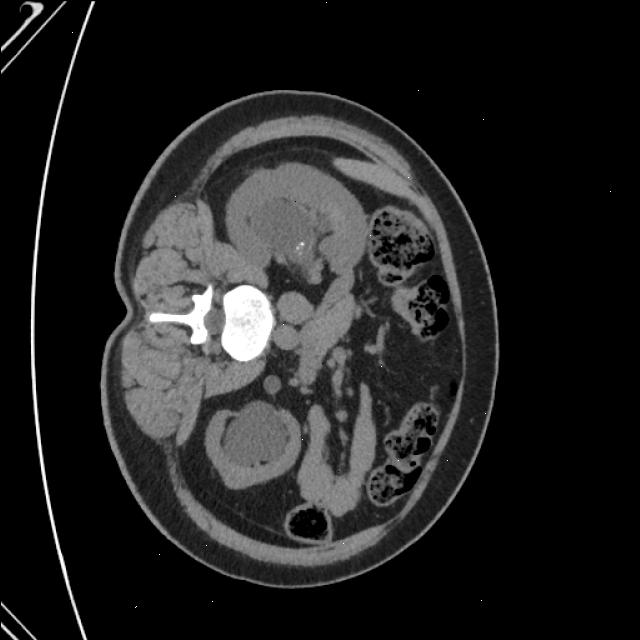kidneystone: (292, 241, 305, 250)
